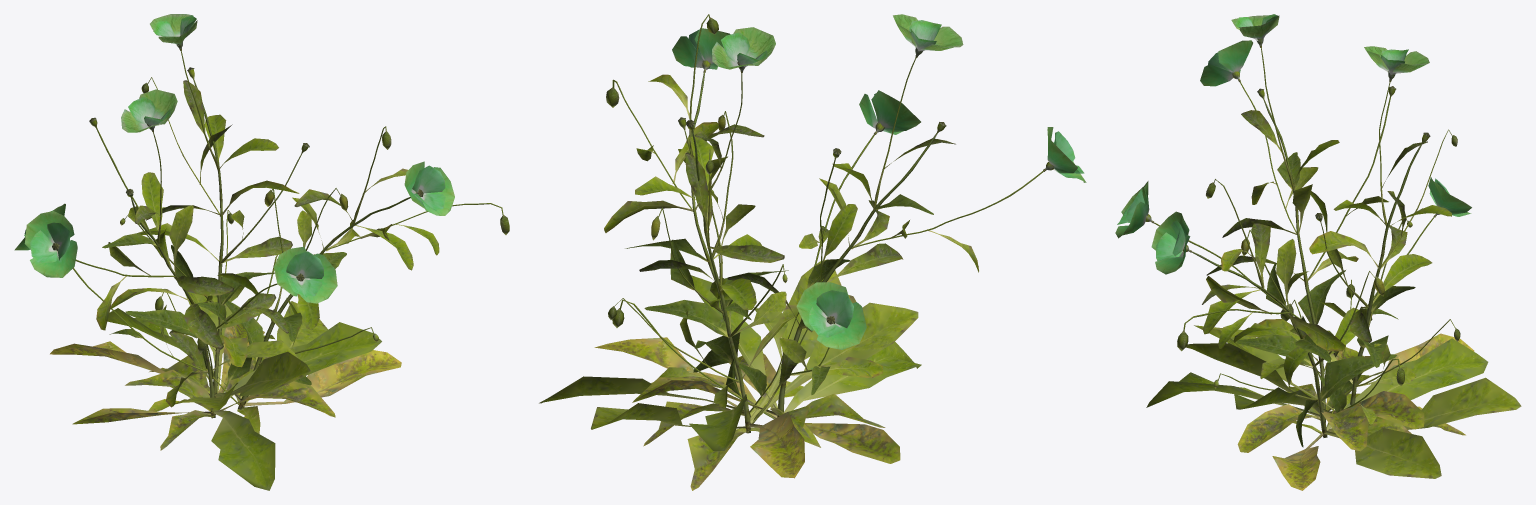
Rendered from Poppy_bush_short_greenyellow.glb.
3 views of the same model, side by side, from view 1: azimuth 30°, elevation 25°; view 2: azimuth 150°, elevation 25°; view 3: azimuth 270°, elevation 25° (orthographic). The views are drawn at different scales.
Parts seen in each view (by area): view 1: bush jr; view 2: bush jr; view 3: bush jr.
Boxes of the visible parts, x1=… form: bush jr: x1=14, y1=14, x2=509, y2=490; bush jr: x1=539, y1=14, x2=1086, y2=490; bush jr: x1=1115, y1=14, x2=1521, y2=490.
Bounding box in the file's own units: 4.09 × 3.29 × 3.16.
1 material, 1 textured.
